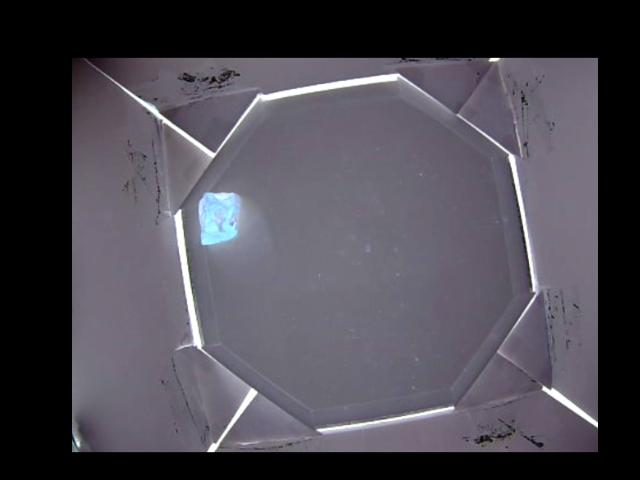Brisk: (198, 192, 241, 245)
